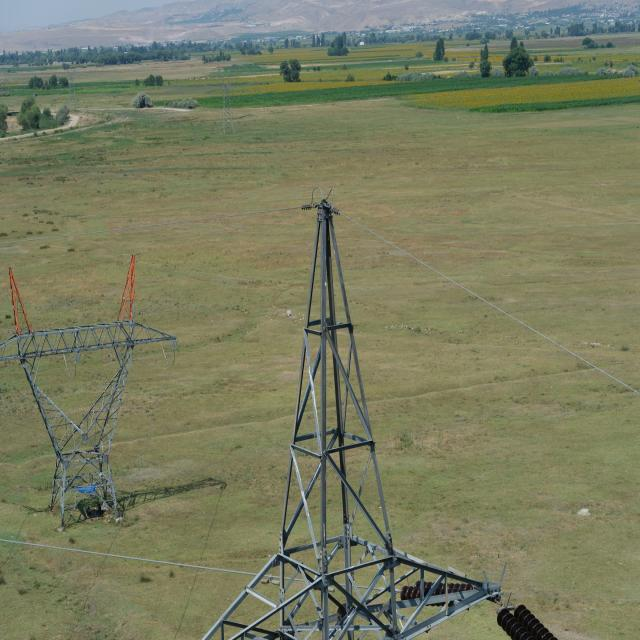direk: (257, 198, 449, 640), (49, 271, 122, 521)
